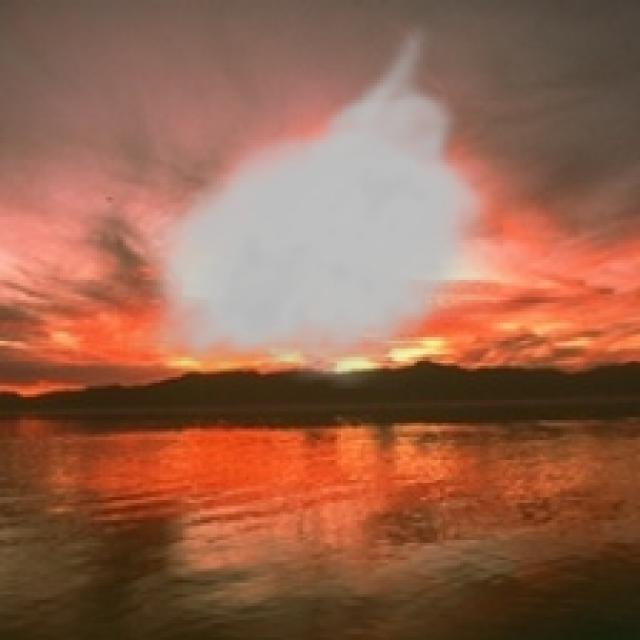Smoke: (123, 17, 503, 389)
